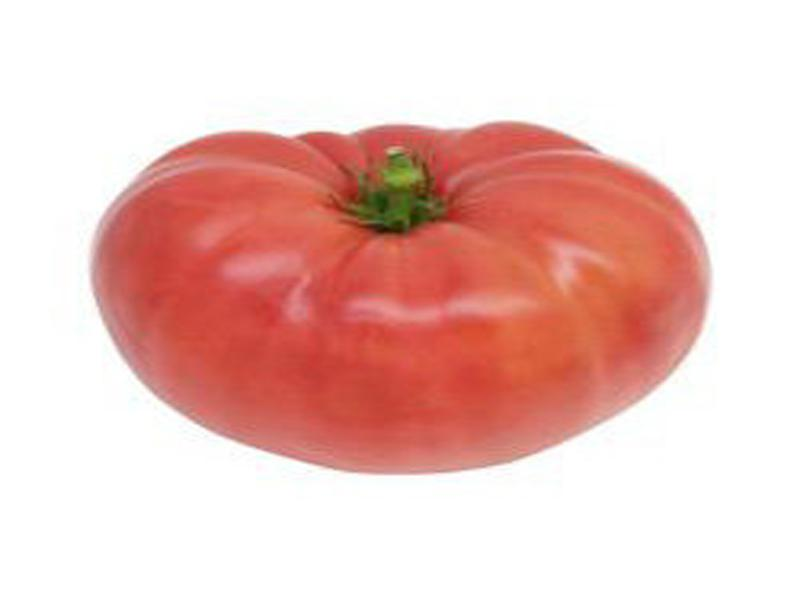Tomato: (93, 130, 710, 470)
